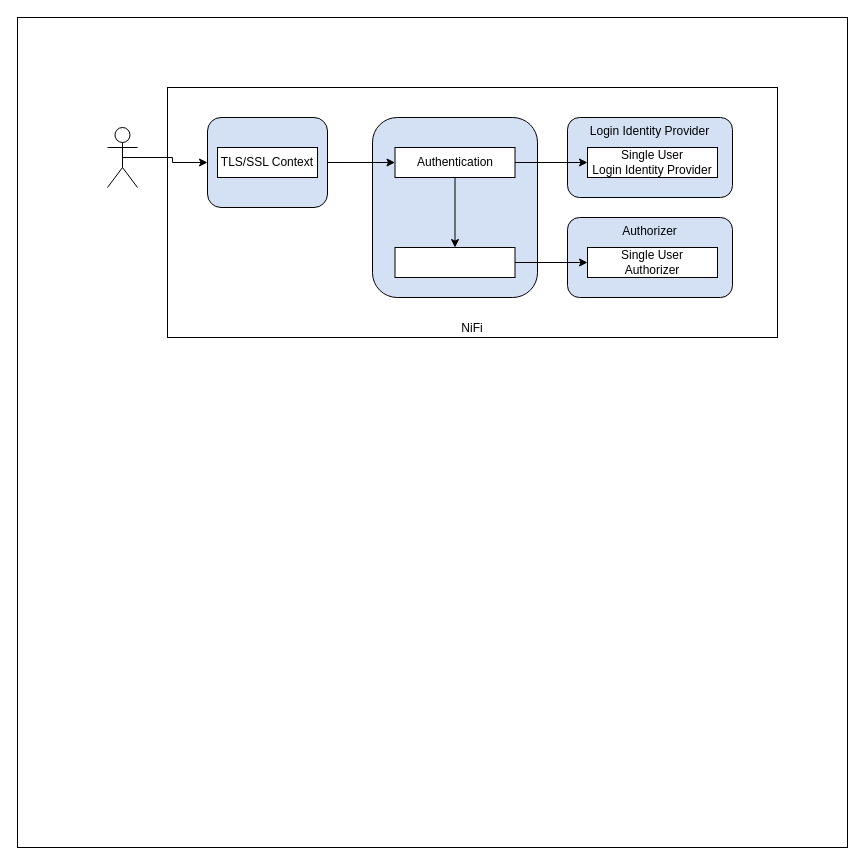
This 865x865 diagram has some shape labels left out. The box of each missing label's shape, as (x1, y1, x2, y2) in pixels:
Authorization: (394, 246, 515, 278)
Jetty Web Server: (206, 116, 328, 208)
NiFi Web API: (372, 116, 538, 298)
